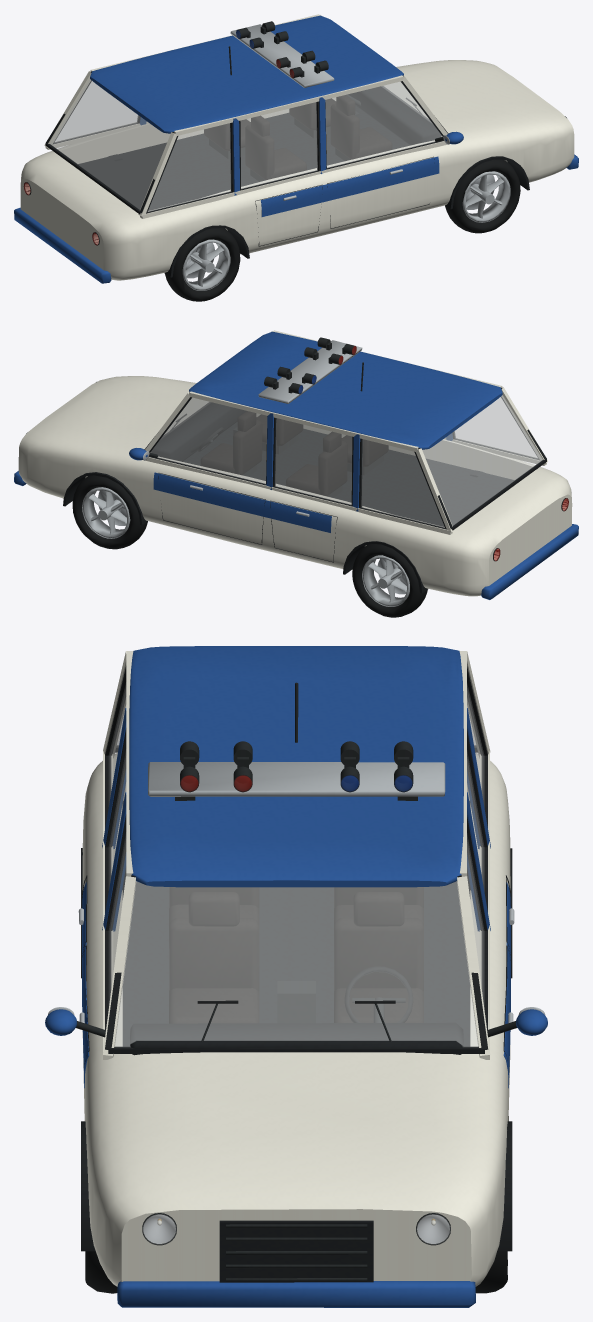
The model's file is police-suv-cc0-lite.glb.
3 views of the same model, one above another, from view 1: azimuth 30°, elevation 25°; view 2: azimuth 150°, elevation 25°; view 3: azimuth 270°, elevation 25° (orthographic). The views are drawn at different scales.
Parts seen in each view (by area): view 1: Patrol sculpted body with cut cabin and wheel arches, Patrol shaped finite roof panel, Patrol cabin floor, Patrol rear screen finite transparent pane, Patrol front door glazing -1 finite transparent pane, Patrol rear door glazing -1 finite transparent pane, Patrol rear quarter glazing -1 finite transparent pane, Patrol generic blue side livery -1, Patrol closed dashboard, Patrol rear quarter glazing 1 finite transparent pane, Patrol wheel 1510.0 -1 rounded tyre carcass, Patrol wheel -1510.0 -1 rounded tyre carcass (+21 smaller); view 2: Patrol sculpted body with cut cabin and wheel arches, Patrol shaped finite roof panel, Patrol cabin floor, Patrol rear screen finite transparent pane, Patrol front door glazing 1 finite transparent pane, Patrol rear door glazing 1 finite transparent pane, Patrol rear quarter glazing 1 finite transparent pane, Patrol generic blue side livery 1, Patrol closed dashboard, Patrol rear quarter glazing -1 finite transparent pane, Patrol wheel 1510.0 1 rounded tyre carcass, Patrol wheel -1510.0 1 rounded tyre carcass (+21 smaller); view 3: Patrol sculpted body with cut cabin and wheel arches, Patrol shaped finite roof panel, Patrol windscreen finite transparent pane, Patrol cabin floor, Patrol bumper 1, Patrol closed dashboard, Patrol light bar base, Patrol grille backing, Patrol seat back 0 -1, Patrol seat back 0 1, Patrol seat cushion 0 -1, Patrol seat cushion 0 1 (+24 smaller).
Boxes of the visible parts, left/top/right/bottom form: Patrol sculpted body with cut cabin and wheel arches: left=20, top=60, right=574, bottom=280; Patrol shaped finite roof panel: left=90, top=15, right=403, bottom=133; Patrol cabin floor: left=78, top=106, right=409, bottom=210; Patrol rear screen finite transparent pane: left=50, top=79, right=170, bottom=209; Patrol front door glazing -1 finite transparent pane: left=325, top=82, right=442, bottom=167; Patrol rear door glazing -1 finite transparent pane: left=240, top=102, right=317, bottom=188; Patrol rear quarter glazing -1 finite transparent pane: left=148, top=123, right=230, bottom=211; Patrol generic blue side livery -1: left=260, top=156, right=439, bottom=216; Patrol closed dashboard: left=348, top=86, right=441, bottom=145; Patrol rear quarter glazing 1 finite transparent pane: left=54, top=81, right=138, bottom=142; Patrol wheel 1510.0 -1 rounded tyre carcass: left=445, top=159, right=520, bottom=233; Patrol wheel -1510.0 -1 rounded tyre carcass: left=165, top=228, right=240, bottom=301; Patrol sculpted body with cut cabin and wheel arches: left=18, top=376, right=572, bottom=596; Patrol shaped finite roof panel: left=189, top=331, right=502, bottom=449; Patrol cabin floor: left=183, top=422, right=514, bottom=526; Patrol rear screen finite transparent pane: left=422, top=395, right=542, bottom=525; Patrol front door glazing 1 finite transparent pane: left=150, top=398, right=266, bottom=483; Patrol rear door glazing 1 finite transparent pane: left=275, top=418, right=351, bottom=504; Patrol rear quarter glazing 1 finite transparent pane: left=361, top=439, right=444, bottom=527; Patrol generic blue side livery 1: left=153, top=472, right=331, bottom=532; Patrol closed dashboard: left=150, top=402, right=245, bottom=461; Patrol rear quarter glazing -1 finite transparent pane: left=454, top=397, right=537, bottom=458; Patrol wheel 1510.0 1 rounded tyre carcass: left=72, top=475, right=147, bottom=549; Patrol wheel -1510.0 1 rounded tyre carcass: left=352, top=543, right=427, bottom=617; Patrol sculpted body with cut cabin and wheel arches: left=82, top=753, right=510, bottom=1286; Patrol shaped finite roof panel: left=129, top=646, right=463, bottom=887; Patrol windscreen finite transparent pane: left=114, top=881, right=478, bottom=1046; Patrol cabin floor: left=122, top=800, right=470, bottom=1046; Patrol bumper 1: left=117, top=1281, right=475, bottom=1307; Patrol closed dashboard: left=130, top=1022, right=463, bottom=1055; Patrol light bar base: left=148, top=762, right=445, bottom=796; Patrol grille backing: left=219, top=1220, right=373, bottom=1282; Patrol seat back 0 -1: left=169, top=918, right=259, bottom=991; Patrol seat back 0 1: left=334, top=918, right=423, bottom=990; Patrol seat cushion 0 -1: left=169, top=988, right=259, bottom=1023; Patrol seat cushion 0 1: left=334, top=988, right=423, bottom=1022.
Size of the model in its own units: 5.15 by 2.07 by 2.35.
Materials: 14 (10 with a texture image).
